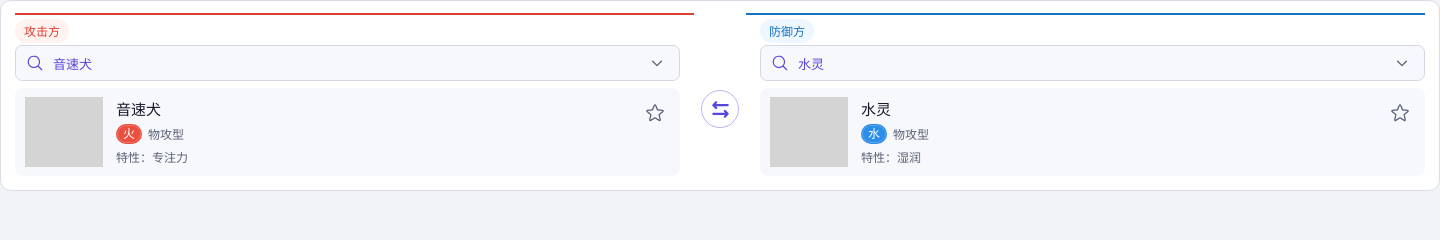
Scenario: shows the full trait description on pointer hover and keyboard focus
This screenshot has width=1440, height=240.
expect the tooltip "入场首回合，获得物攻+100%。" is not shown: met
Hover over the text "专注力" at (170, 157), box [152,148,188,166]
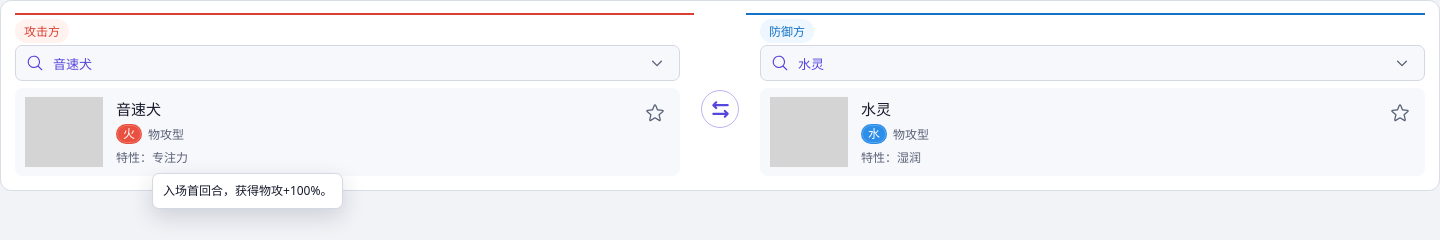
expect the tooltip "入场首回合，获得物攻+100%。" is shown: met, box [152,173,343,209]
Move the pointer off the text "专注力", box [152,148,188,166]
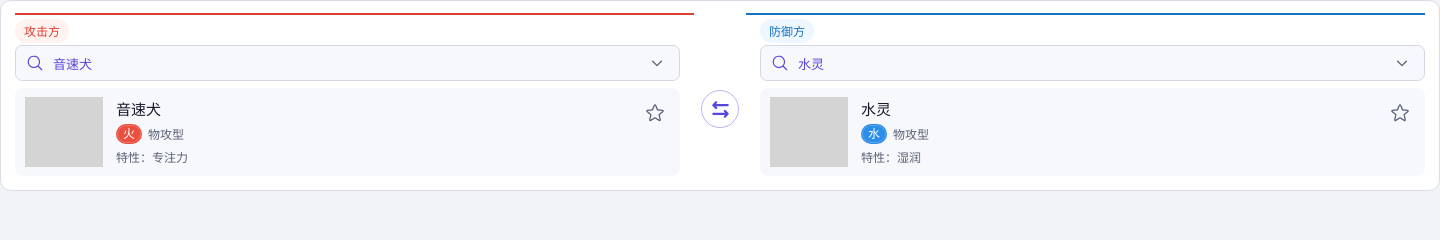
Focus the text "专注力" at (170, 157), box [152,148,188,166]
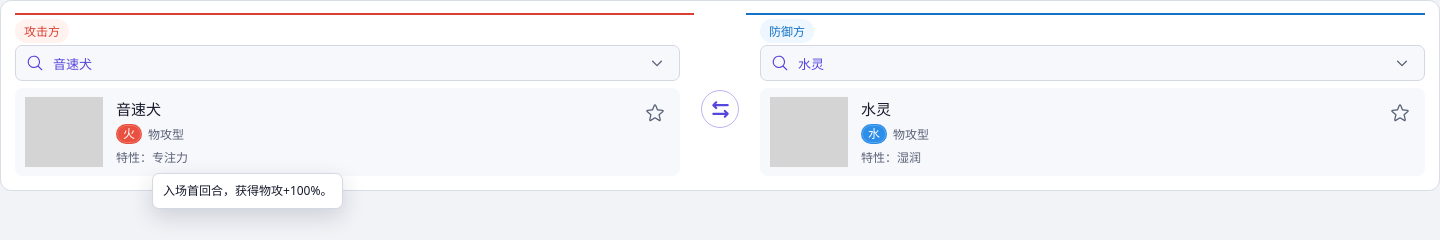
expect the tooltip "入场首回合，获得物攻+100%。" is shown: met, box [152,173,343,209]
